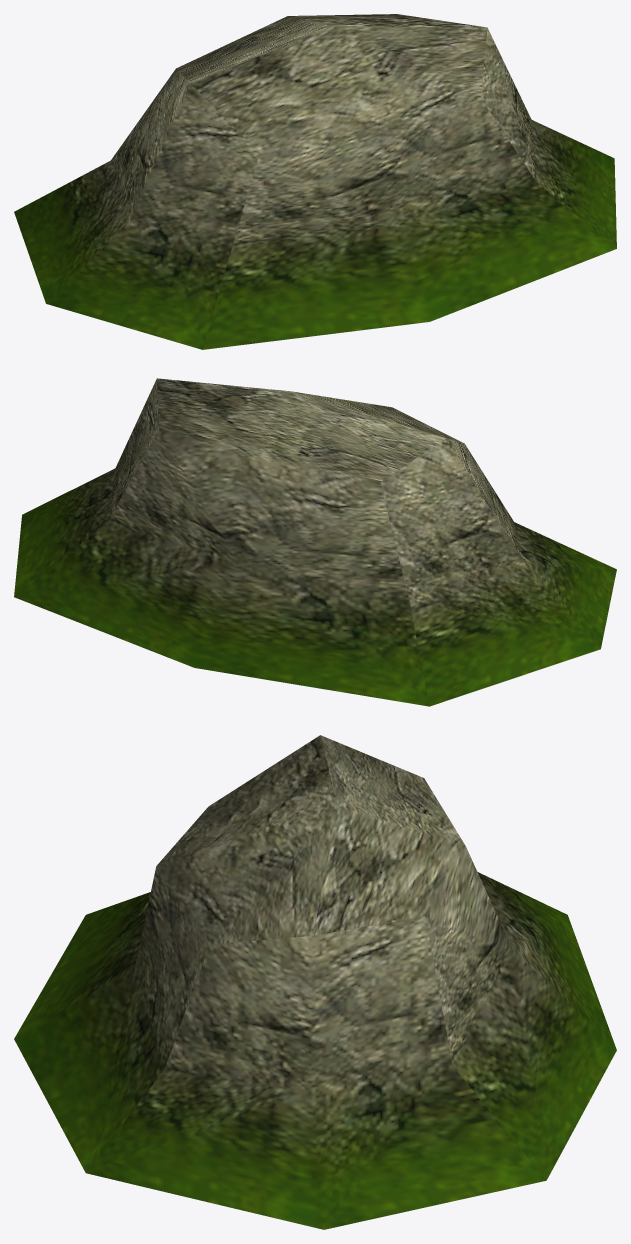
The model's file is nast15.dae.
3 renders of one model, top to bottom at view 1: azimuth 30°, elevation 25°; view 2: azimuth 150°, elevation 25°; view 3: azimuth 270°, elevation 25°, orthographic. The views are drawn at different scales.
Visible parts, largest first — view 1: stones03; view 2: stones03; view 3: stones03.
Part boxes in pixels (bbox=[...]): stones03: bbox=[14, 14, 616, 349]; stones03: bbox=[14, 378, 616, 706]; stones03: bbox=[14, 735, 616, 1229].
Size of the model in its own units: 7.04 by 5 by 2.29.
1 material, 1 textured.
